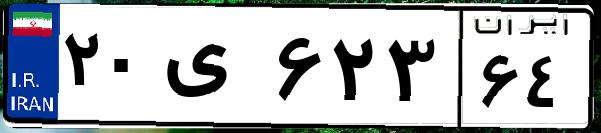0: (110, 28, 158, 98)
2: (330, 28, 385, 110), (57, 26, 110, 100)
3: (385, 28, 445, 110)
4: (525, 38, 570, 115)
6: (270, 28, 330, 110), (475, 38, 525, 113)
ی: (158, 20, 270, 120)
